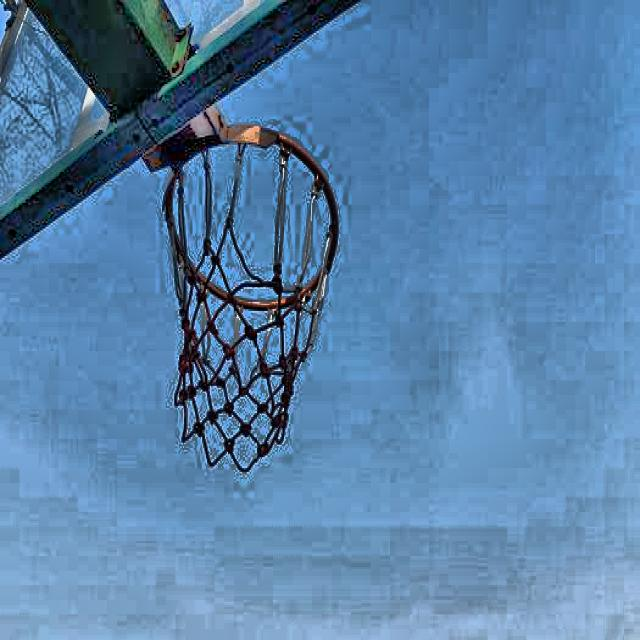rim: (165, 124, 340, 464)
